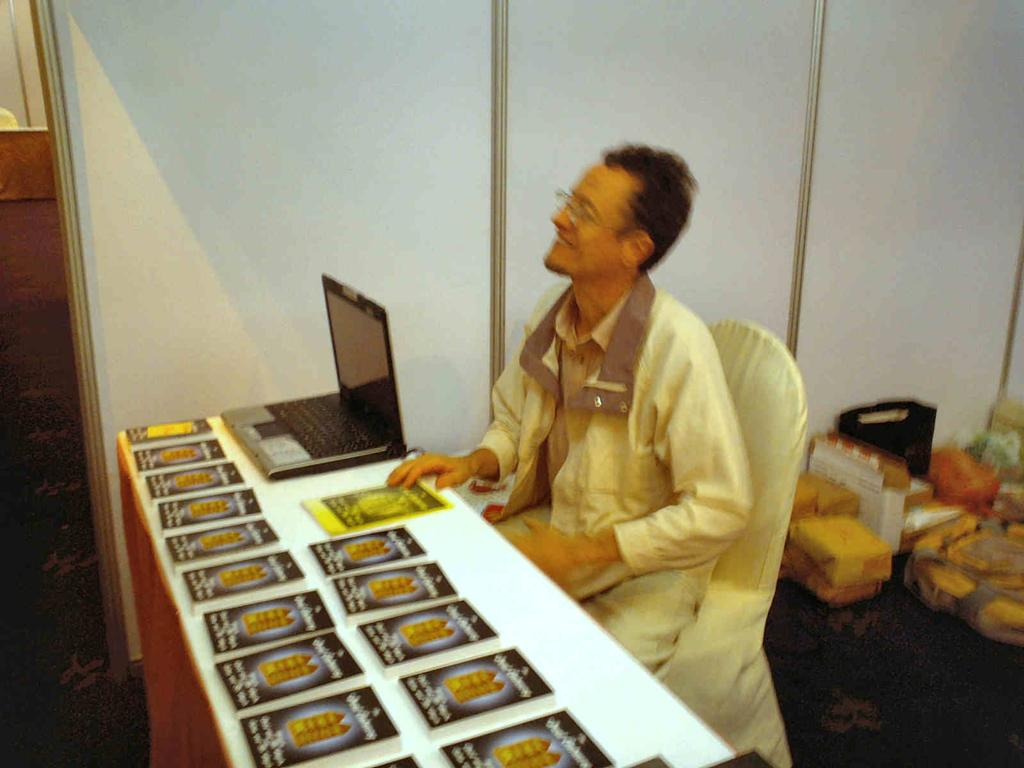face: (542, 164, 634, 278)
